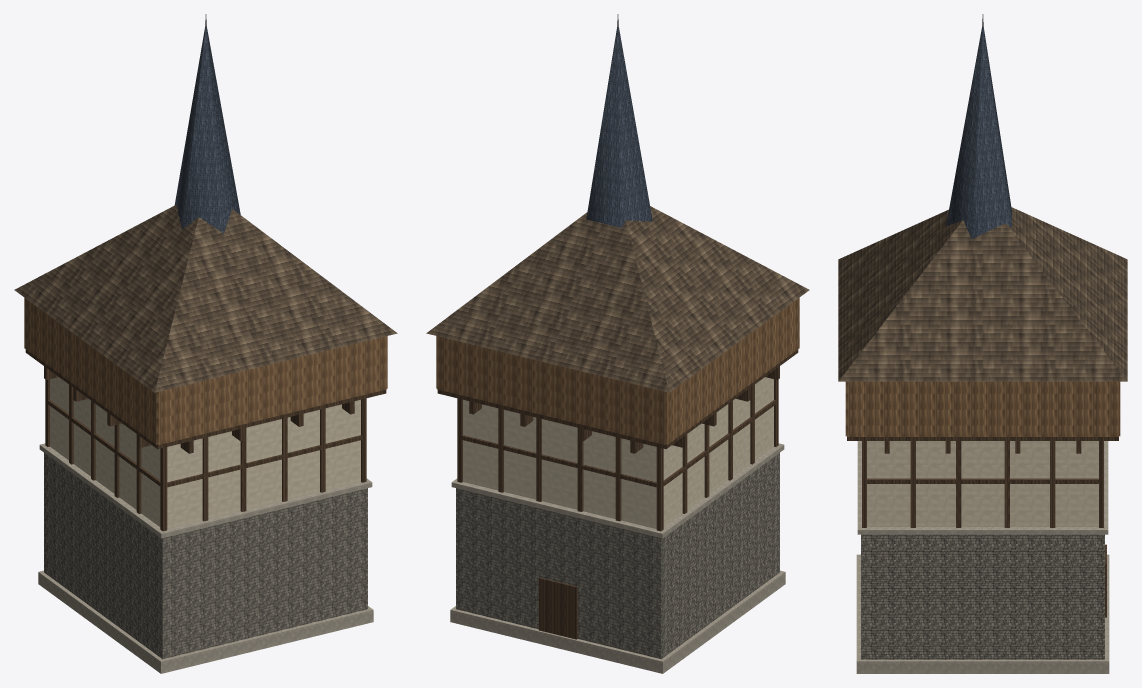
Rendered from Keep_Timber_Spire_1_LOD1.gltf.
The picture shows the model from 3 angles, left to right: view 1: azimuth 30°, elevation 25°; view 2: azimuth 150°, elevation 25°; view 3: azimuth 270°, elevation 25°; orthographic projection. The views are drawn at different scales.
Visible parts, largest first — view 1: Keep_Timber_Spire_1_LOD1; view 2: Keep_Timber_Spire_1_LOD1; view 3: Keep_Timber_Spire_1_LOD1.
Boxes of the visible parts, x1,y1,x2,y2 form: Keep_Timber_Spire_1_LOD1: (14, 14, 397, 673); Keep_Timber_Spire_1_LOD1: (426, 14, 809, 673); Keep_Timber_Spire_1_LOD1: (838, 14, 1127, 673).
Size of the model in its own units: 16.6 by 38.4 by 16.6.
Materials: 8 (8 with a texture image).
